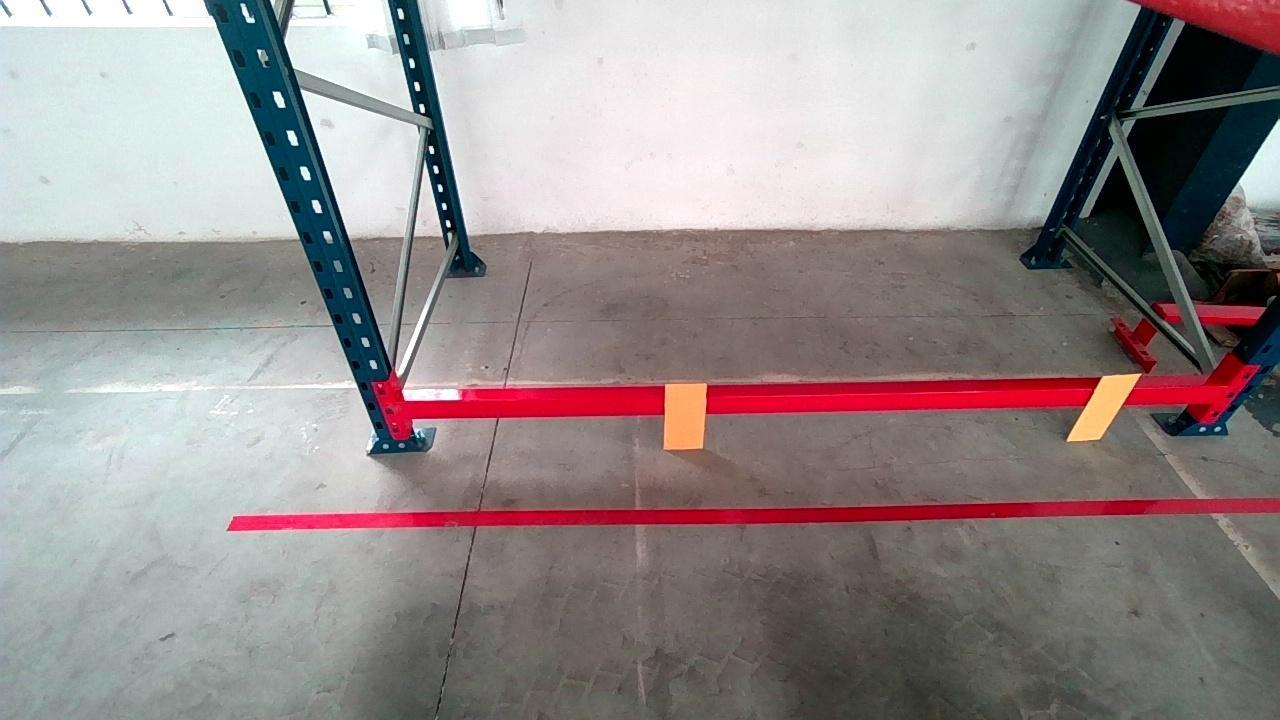h_rack: (401, 375, 1214, 421)
orange_strip: (1069, 373, 1141, 438), (664, 382, 706, 448)
red_line: (222, 496, 1275, 535)
